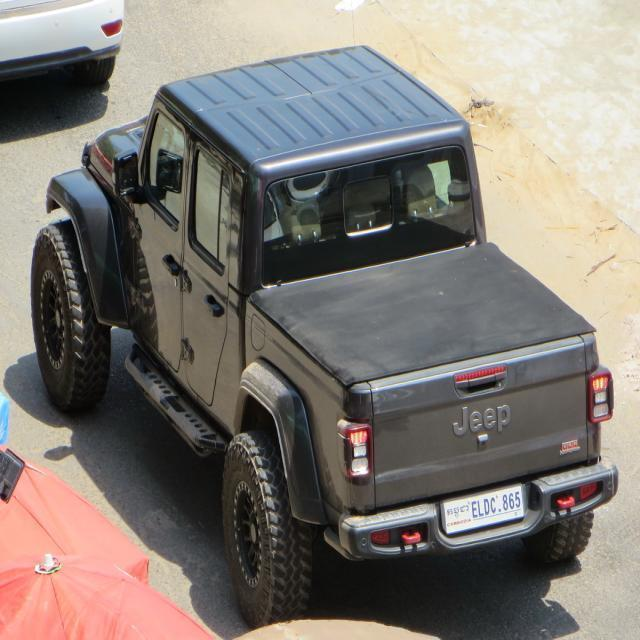Cambodia: (446, 503, 470, 519)
